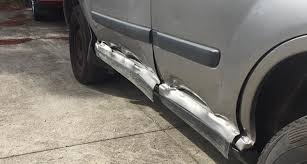Scratch: (92, 32, 256, 158)
